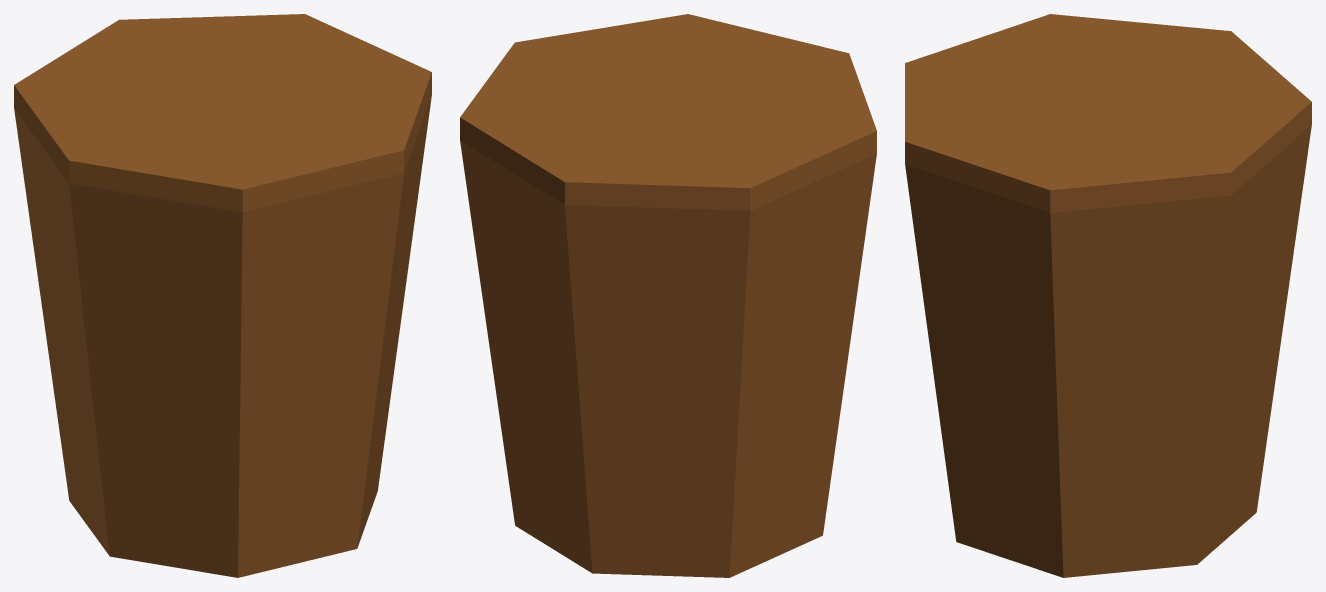
Rendered from Trash Can.fbx.
The picture shows the model from 3 angles, left to right: view 1: azimuth 30°, elevation 25°; view 2: azimuth 150°, elevation 25°; view 3: azimuth 270°, elevation 25°; orthographic projection.
Visible parts, largest first — view 1: Trash Can; view 2: Trash Can; view 3: Trash Can.
Part boxes in pixels (<box>): Trash Can: <box>14,14,431,577</box>; Trash Can: <box>460,14,876,577</box>; Trash Can: <box>905,14,1311,577</box>.
Size of the model in its own units: 30.46 by 33.12 by 29.7.
